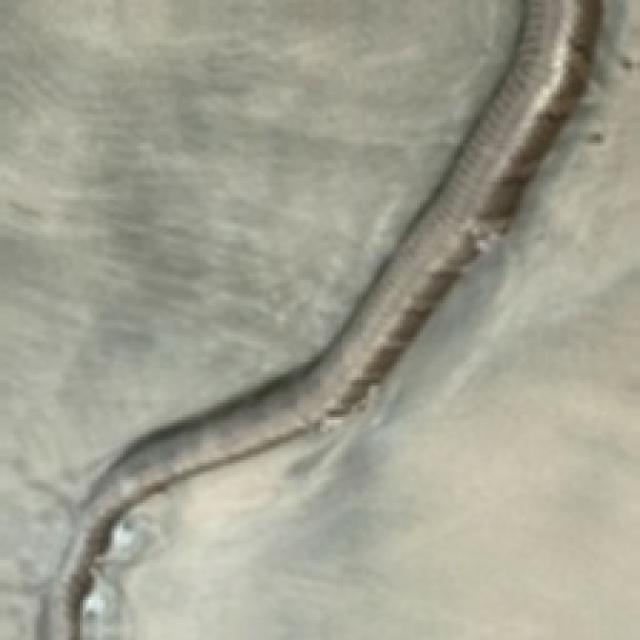king cobra: (49, 60, 637, 637)
